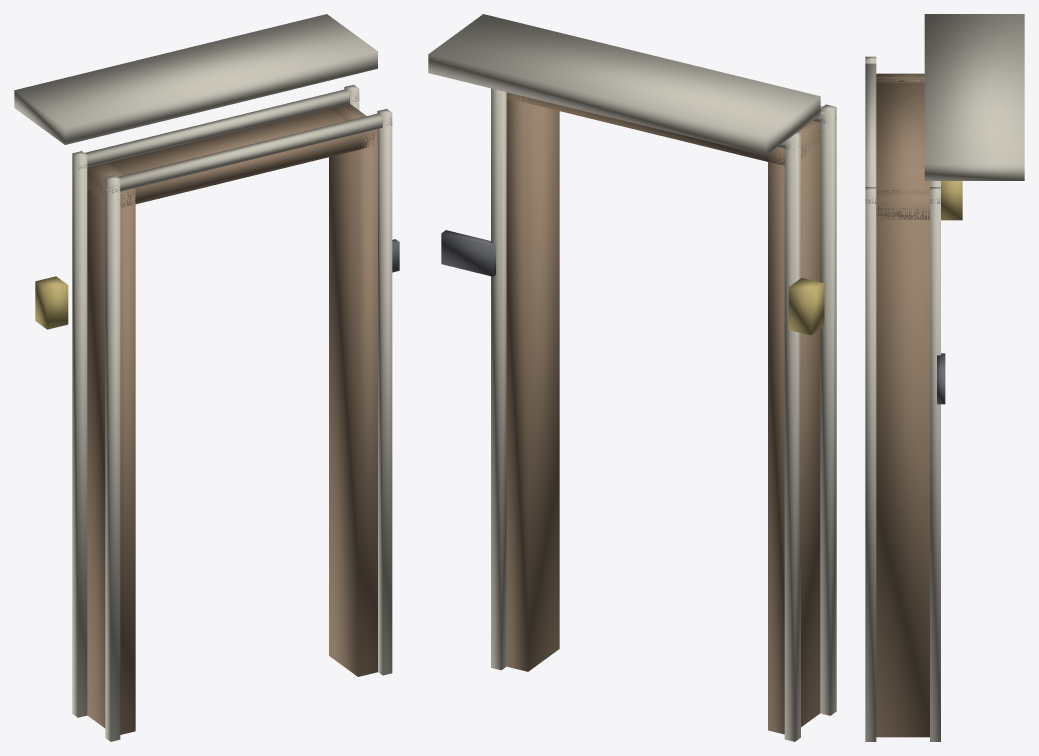
The model's file is doorway_motel_w106_h240_d24.glb.
The picture shows the model from 3 angles, left to right: view 1: azimuth 30°, elevation 25°; view 2: azimuth 150°, elevation 25°; view 3: azimuth 270°, elevation 25°; orthographic projection. The views are drawn at different scales.
Visible parts, largest first — view 1: world; view 2: world; view 3: world.
Boxes of the visible parts, box(x1,y1,x2,y2) form: world: box(14, 14, 399, 741); world: box(428, 14, 836, 741); world: box(865, 14, 1024, 741).
Bounding box in the file's own units: 1.68 × 2.72 × 0.6689.
